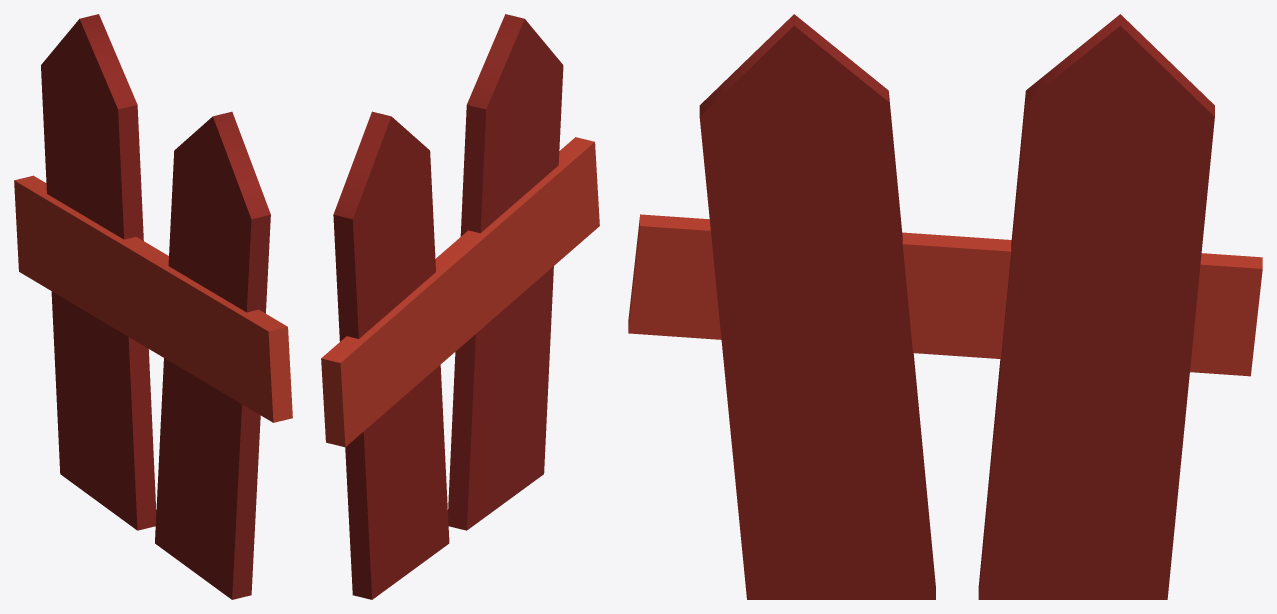
The model's file is VallaRoja.FBX.
The picture shows the model from 3 angles, left to right: view 1: azimuth 30°, elevation 25°; view 2: azimuth 150°, elevation 25°; view 3: azimuth 270°, elevation 25°; orthographic projection. The views are drawn at different scales.
Visible parts, largest first — view 1: VallaRoja; view 2: VallaRoja; view 3: VallaRoja.
Boxes of the visible parts, x1=… form: VallaRoja: x1=14, y1=14, x2=292, y2=599; VallaRoja: x1=321, y1=14, x2=599, y2=599; VallaRoja: x1=628, y1=14, x2=1262, y2=599.
Size of the model in its own units: 2.28 by 38.35 by 38.4.
